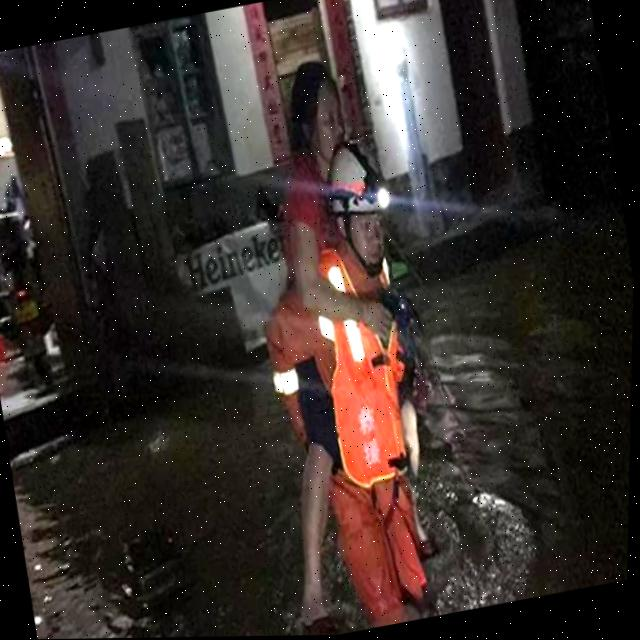civilian: (194, 37, 468, 625)
rescuer: (200, 122, 497, 637)
